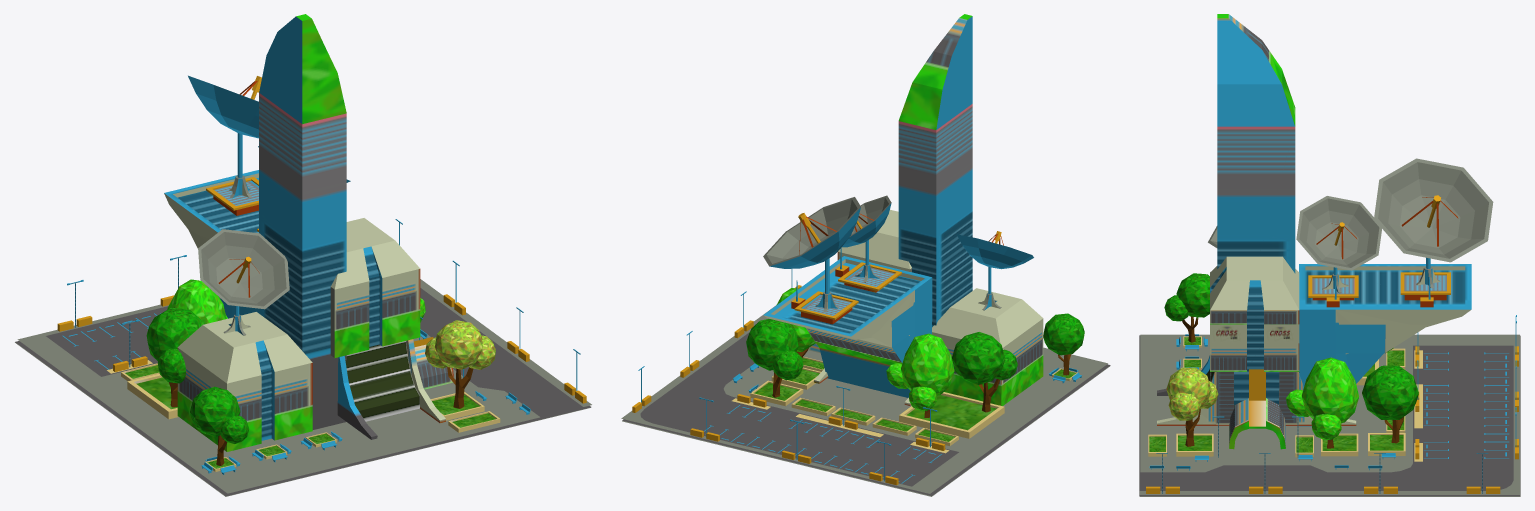
File: telecom_LV2.fbx
3 views of the same model, side by side, from view 1: azimuth 30°, elevation 25°; view 2: azimuth 150°, elevation 25°; view 3: azimuth 270°, elevation 25° (orthographic). The views are drawn at different scales.
Parts seen in each view (by area): view 1: telecom level 2; view 2: telecom level 2; view 3: telecom level 2.
Boxes of the visible parts, box(x1,y1,x2,y2) form: telecom level 2: box(15, 14, 591, 496); telecom level 2: box(621, 14, 1110, 496); telecom level 2: box(1139, 14, 1520, 496).
Bounding box in the file's own units: 120 × 130 × 120.
